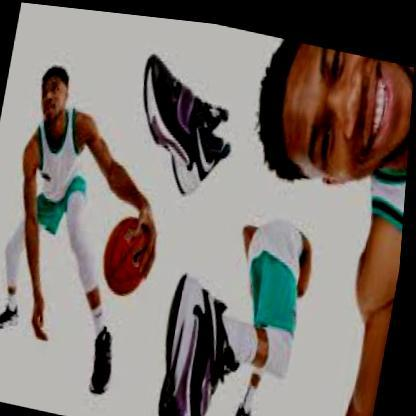basketball: (99, 208, 161, 300)
